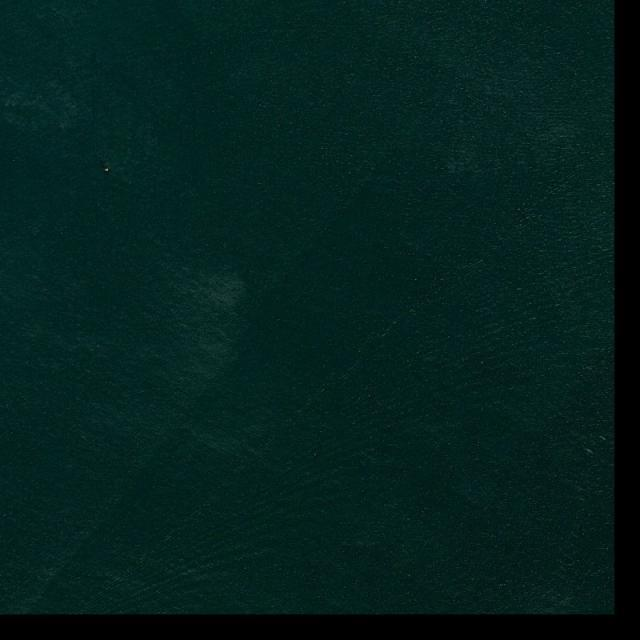ship: (103, 166, 110, 173)
